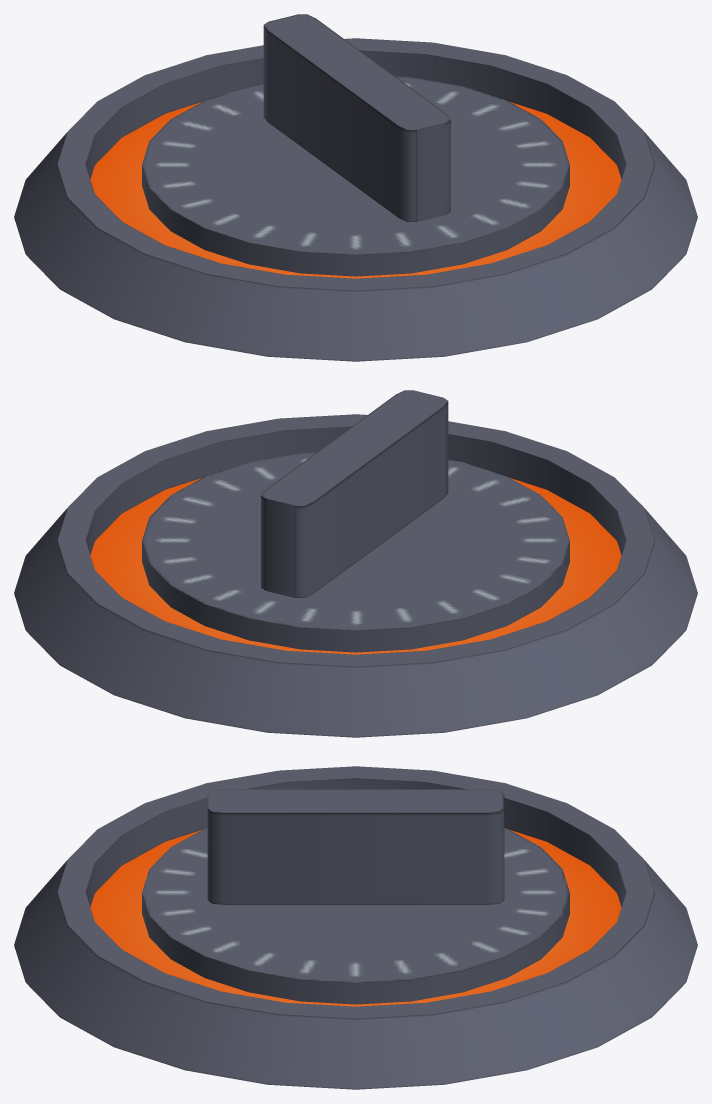
The model's file is Button_Big_Circular_Orange.FBX.
3 views of the same model, one above another, from view 1: azimuth 30°, elevation 25°; view 2: azimuth 150°, elevation 25°; view 3: azimuth 270°, elevation 25° (orthographic).
Visible parts, largest first — view 1: Button_Big_Circular_Orange, Turn_Me_On; view 2: Button_Big_Circular_Orange, Turn_Me_On; view 3: Button_Big_Circular_Orange, Turn_Me_On.
Boxes of the visible parts, box(x1,y1,x2,y2) form: Button_Big_Circular_Orange: box(14, 38, 697, 361); Turn_Me_On: box(142, 14, 569, 276); Button_Big_Circular_Orange: box(14, 414, 697, 737); Turn_Me_On: box(142, 390, 569, 652); Button_Big_Circular_Orange: box(14, 766, 697, 1089); Turn_Me_On: box(142, 789, 569, 1004).
Size of the model in its own units: 0.2964 by 0.0691 by 0.2964.
